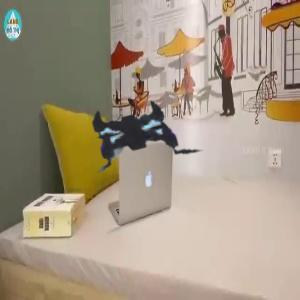drone: (34, 38, 240, 244)
